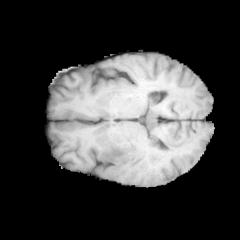glioma: (97, 142, 161, 185)
